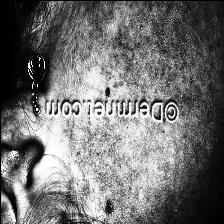Non-Cancerous Skin Condition: (68, 0, 224, 224)
